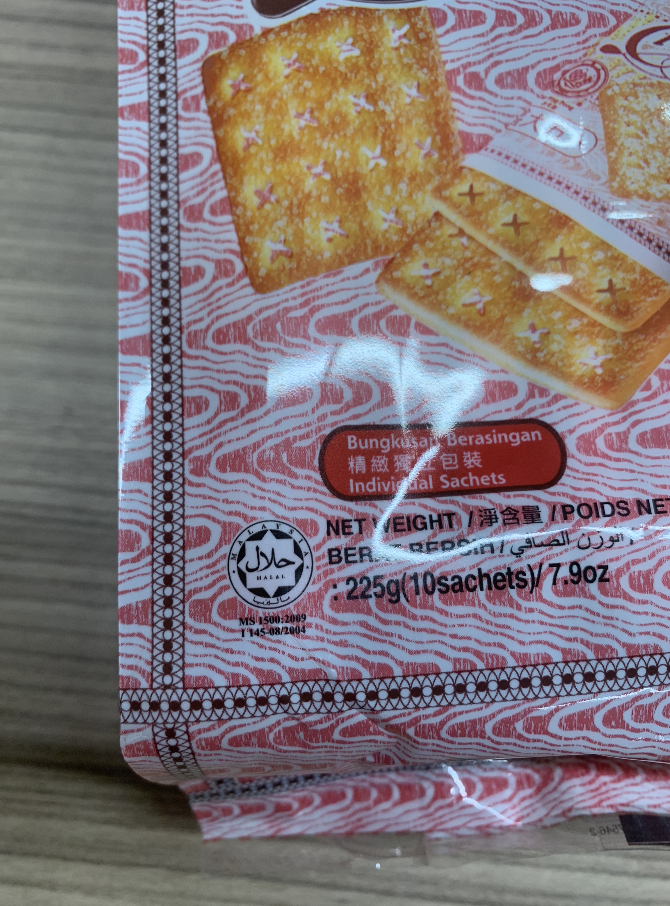halal: (242, 534, 299, 588)
